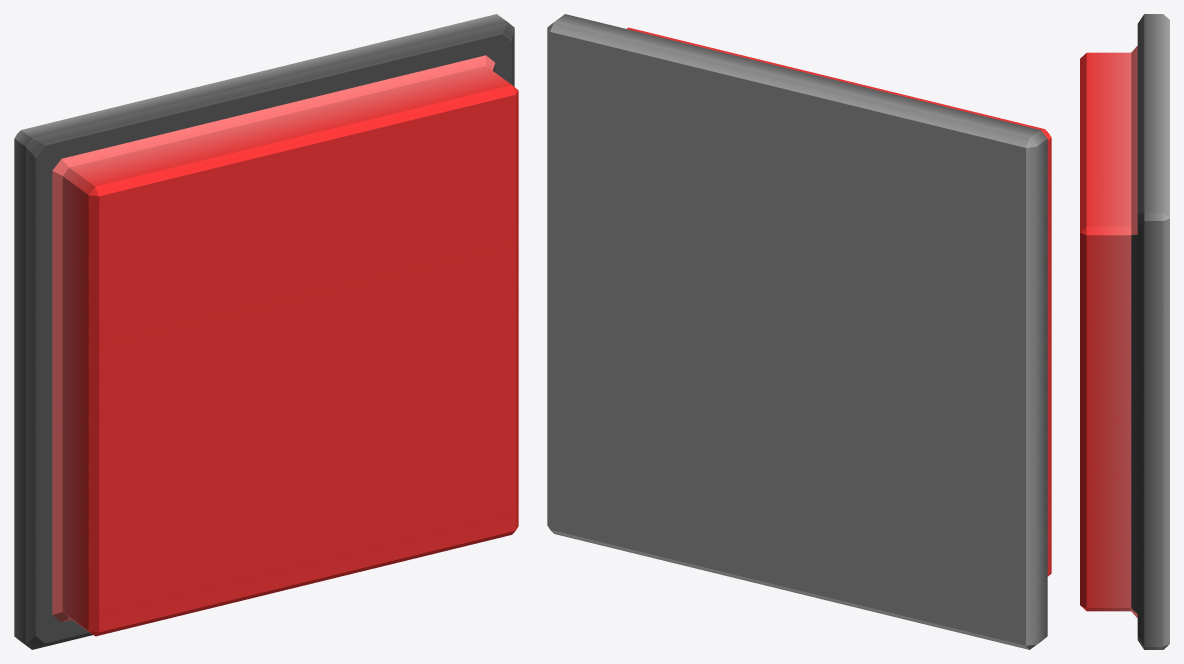
File: switchUp.obj
3 renders of one model, left to right at view 1: azimuth 30°, elevation 25°; view 2: azimuth 150°, elevation 25°; view 3: azimuth 270°, elevation 25°, orthographic. The views are drawn at different scales.
Parts seen in each view (by area): view 1: Cube; view 2: Cube; view 3: Cube.
Boxes of the visible parts, box(x1,y1,x2,y2) form: Cube: box(14, 14, 518, 649); Cube: box(547, 14, 1051, 649); Cube: box(1080, 14, 1169, 649).
Size of the model in its own units: 2 by 2 by 0.372.
1 material, 1 textured.
